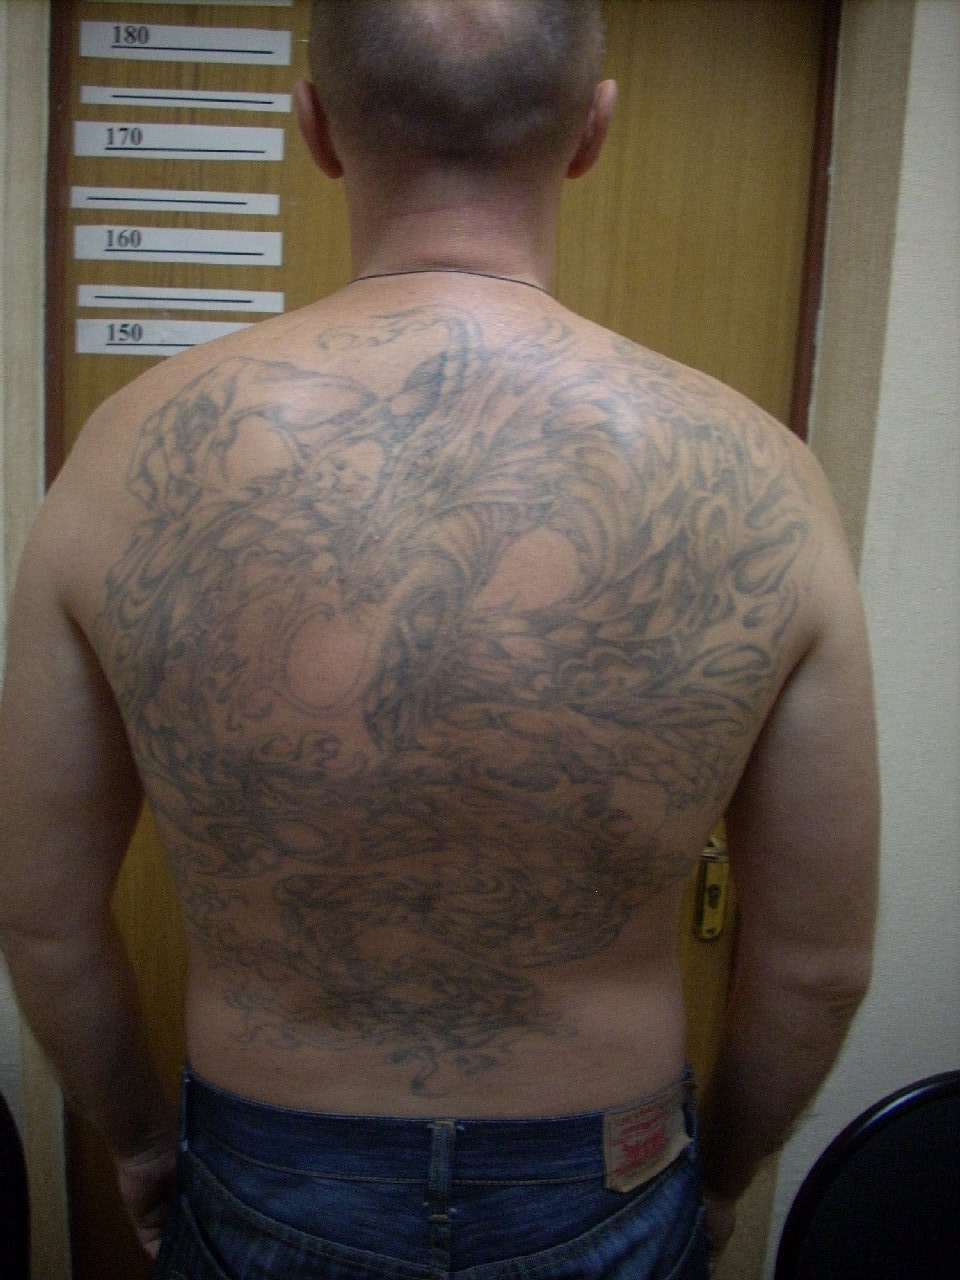tatu6_drakon: (71, 257, 827, 1099)
